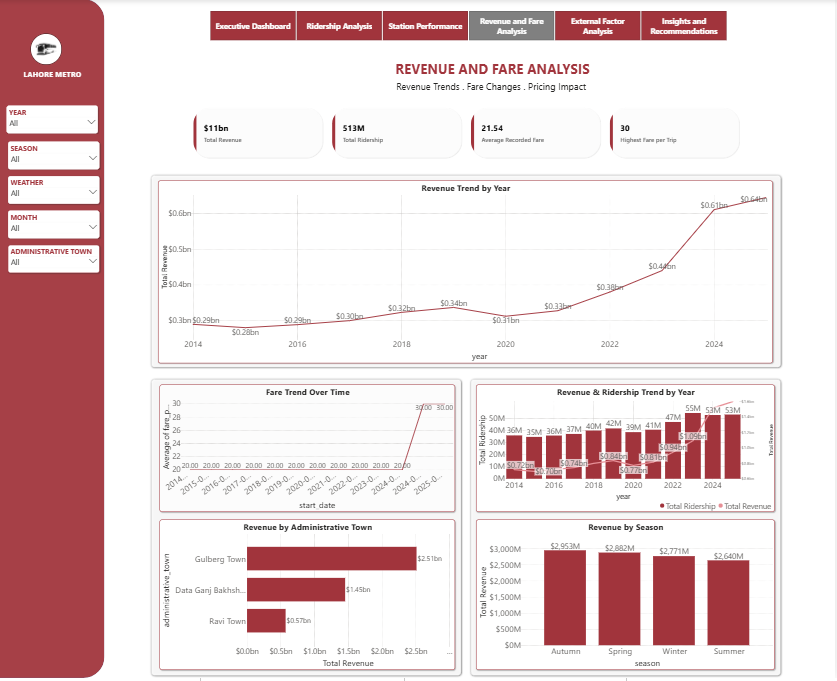

This screenshot's page, from the dashboard's own definition file:
{"tool":"powerbi","page":{"name":"Revenue and Fare Analysis","canvas":[8000,6500],"ordinal":3},"visuals":[{"type":"shape","box":[0,0,1010,6500],"z":0},{"type":"textbox","box":[225,660,610,174],"z":1000},{"type":"image","box":[305,325,300,300],"z":2000},{"type":"textbox","box":[3420,570,3120,450],"z":3000},{"type":"cardVisual","fields":{"Data":["lahore_metro_analysis ridership.Total Revenue","lahore_metro_analysis ridership.Total Ridership","lahore_metro_analysis fare_history.Average Faree","lahore_metro_analysis fare_history.Highest Fare"]},"box":[1820,1010,5300,550],"z":4000},{"type":"pageNavigator","box":[2020,120,4940,280],"z":5000},{"type":"slicer","fields":{"Values":["lahore_metro_analysis ridership.year"]},"box":[65,1020,875,267.5],"z":6000},{"type":"slicer","fields":{"Values":["lahore_metro_analysis ridership.season"]},"box":[80,1360,875,267.5],"z":7000},{"type":"slicer","fields":{"Values":["lahore_metro_analysis ridership.month_name"]},"box":[80,2025,875,267.5],"z":8000},{"type":"slicer","fields":{"Values":["lahore_metro_analysis ridership.weather"]},"box":[80,1700,875,267.5],"z":9000},{"type":"slicer","fields":{"Values":["lahore_metro_analysis ridership.administrative_town"]},"box":[80,2357.5,875,267.5],"z":10000},{"type":"shape","box":[1432.6,1670,6070.8,1882.2],"z":11000},{"type":"lineChart","title":"Revenue Trend by Year","fields":{"Category":["lahore_metro_analysis ridership.year"],"Y":["lahore_metro_analysis ridership.Total Revenue"]},"box":[1525.4,1736.3,5885.3,1749.7],"z":12000},{"type":"shape","box":[1430,3620,3010,2880],"z":13000},{"type":"shape","box":[4490,3620,3010,2880],"z":14000},{"type":"lineChart","title":"Fare Trend Over Time","fields":{"Y":["Avg(lahore_metro_analysis fare_history.fare_per_trip_pkr)"],"Category":["lahore_metro_analysis fare_history.start_date"]},"box":[1530,3690,2830,1220],"z":15000},{"type":"lineClusteredColumnComboChart","title":"Revenue & Ridership Trend by Year","fields":{"Y":["lahore_metro_analysis ridership.Total Ridership"],"Category":["lahore_metro_analysis ridership.year"],"Y2":["lahore_metro_analysis ridership.Total Revenue"]},"box":[4560,3690,2860,1220],"z":16000},{"type":"barChart","title":"Revenue by Administrative Town","fields":{"Category":["lahore_metro_analysis ridership.administrative_town"],"Y":["lahore_metro_analysis ridership.Total Revenue"]},"box":[1530,4980,2830,1440],"z":17000},{"type":"clusteredColumnChart","title":"Revenue by Season","fields":{"Category":["lahore_metro_analysis ridership.season"],"Y":["lahore_metro_analysis ridership.Total Revenue"]},"box":[4560,4980,2860,1440],"z":18000}]}

Visuals, with their boxes in screenshot pixels (x1, y1, x2, y2), scaled from the page's 8000x6500 canvas onto the 837x681 screenshot:
shape: rect(0, 0, 106, 680)
textbox: rect(24, 69, 87, 87)
image: rect(32, 34, 63, 65)
textbox: rect(358, 60, 684, 107)
cardVisual - lahore_metro_analysis ridership.Total Revenue x lahore_metro_analysis ridership.Total Ridership: rect(190, 106, 745, 163)
pageNavigator: rect(211, 13, 728, 42)
slicer - lahore_metro_analysis ridership.year: rect(7, 107, 98, 135)
slicer - lahore_metro_analysis ridership.season: rect(8, 142, 100, 171)
slicer - lahore_metro_analysis ridership.month_name: rect(8, 212, 100, 240)
slicer - lahore_metro_analysis ridership.weather: rect(8, 178, 100, 206)
slicer - lahore_metro_analysis ridership.administrative_town: rect(8, 247, 100, 275)
shape: rect(150, 175, 785, 372)
"Revenue Trend by Year" lineChart: rect(160, 182, 775, 365)
shape: rect(150, 379, 465, 680)
shape: rect(470, 379, 785, 680)
"Fare Trend Over Time" lineChart: rect(160, 387, 456, 514)
"Revenue & Ridership Trend by Year" lineClusteredColumnComboChart: rect(477, 387, 776, 514)
"Revenue by Administrative Town" barChart: rect(160, 522, 456, 673)
"Revenue by Season" clusteredColumnChart: rect(477, 522, 776, 673)
